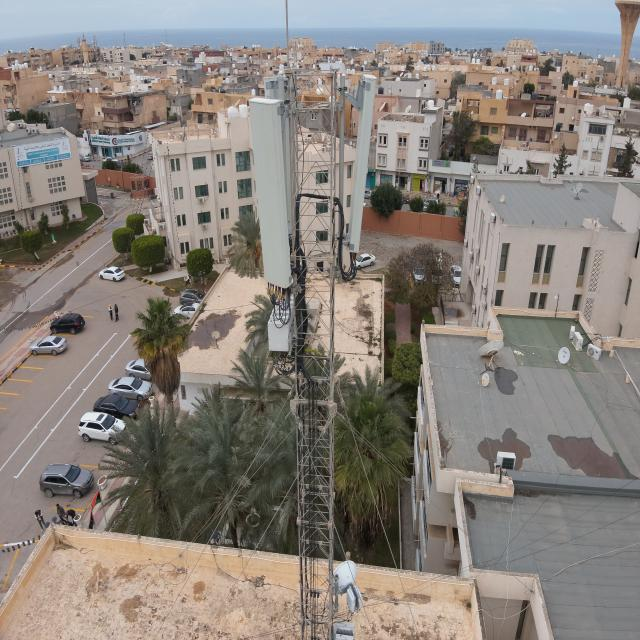antenna: (246, 92, 298, 290), (262, 74, 298, 243), (348, 70, 380, 256)
lighnig-rad: (283, 0, 293, 74)
microware-dish: (331, 557, 364, 615)
power-box: (331, 616, 355, 640)
radio-unit: (267, 292, 296, 360)
